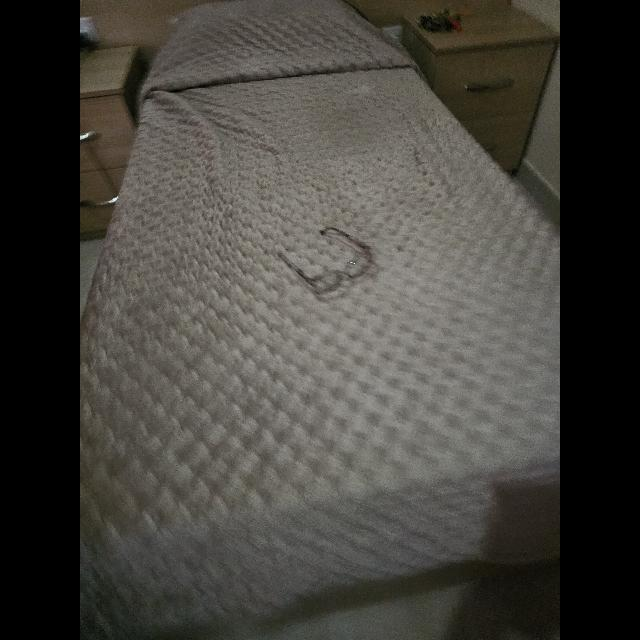glasses: (278, 228, 374, 294)
